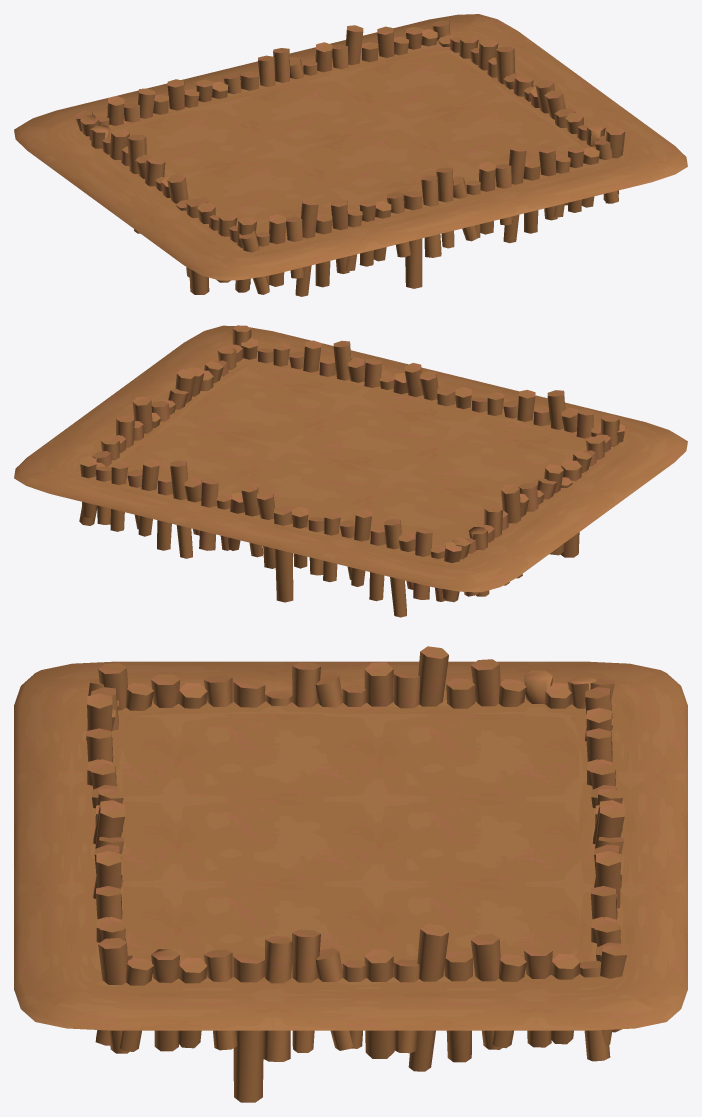
Rendered from 0164_T_ZhenYin_HuaTan15.glb.
3 views of the same model, one above another, from view 1: azimuth 30°, elevation 25°; view 2: azimuth 150°, elevation 25°; view 3: azimuth 270°, elevation 25° (orthographic). The views are drawn at different scales.
Size of the model in its own units: 2.2 by 0.4744 by 1.71.
1 material, 1 textured.
